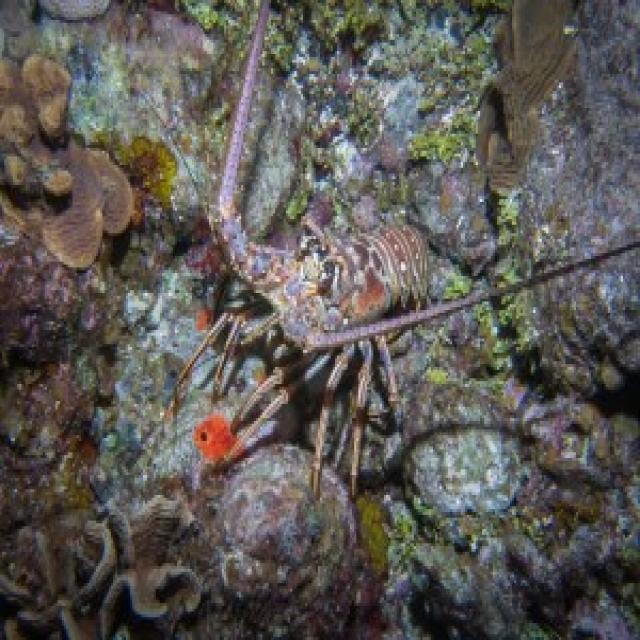lobsters: (92, 91, 612, 521)
